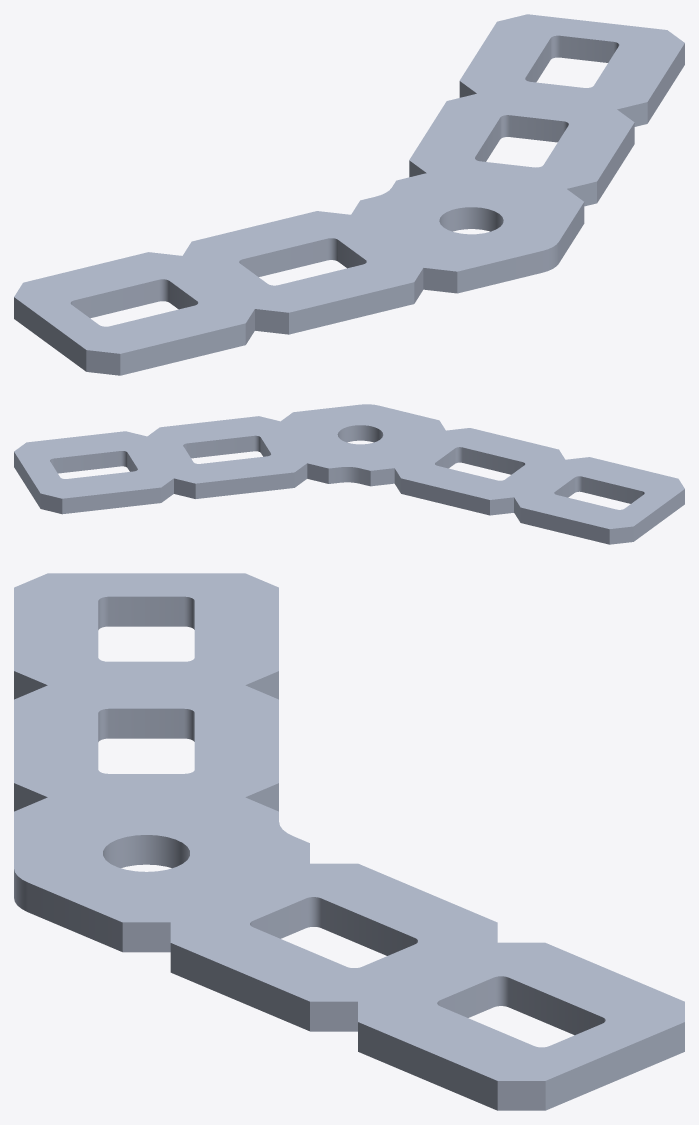
Rendered from 45 Degree Flat Gusset (276-7759-001).glb.
The picture shows the model from 3 angles, top to bottom: view 1: azimuth 30°, elevation 25°; view 2: azimuth 150°, elevation 25°; view 3: azimuth 270°, elevation 25°; orthographic projection. The views are drawn at different scales.
Parts seen in each view (by area): view 1: 276-7759-001 Rev1; view 2: 276-7759-001 Rev1; view 3: 276-7759-001 Rev1.
Boxes of the visible parts, left/top/right/bottom form: 276-7759-001 Rev1: left=14, top=14, right=684, bottom=375; 276-7759-001 Rev1: left=14, top=404, right=684, bottom=544; 276-7759-001 Rev1: left=14, top=573, right=684, bottom=1110.
Bounding box in the file's own units: 0.0575 × 0.00157 × 0.0321.
